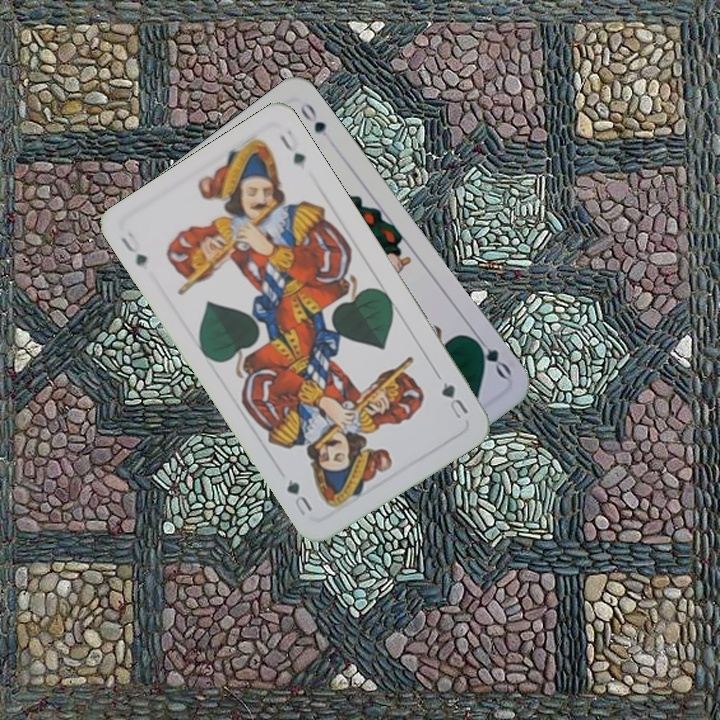GO: (466, 329, 514, 381)
GU: (437, 378, 471, 422), (116, 228, 150, 269)
